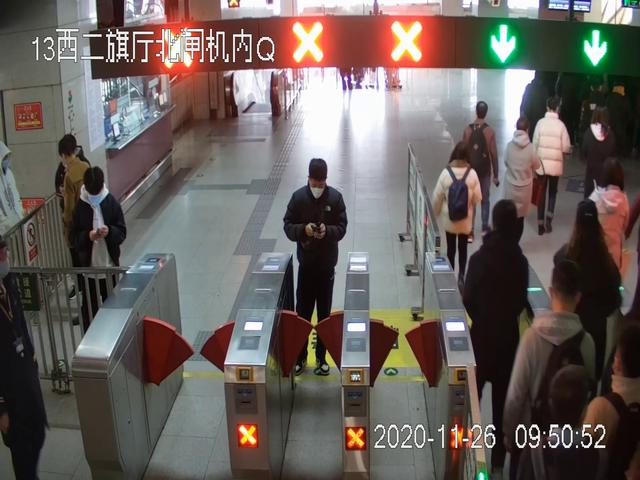person: (504, 261, 597, 480), (464, 199, 529, 480), (284, 158, 347, 376), (553, 200, 621, 400), (70, 167, 128, 347), (430, 142, 481, 281), (461, 101, 500, 244), (534, 97, 571, 237), (503, 120, 541, 247)
